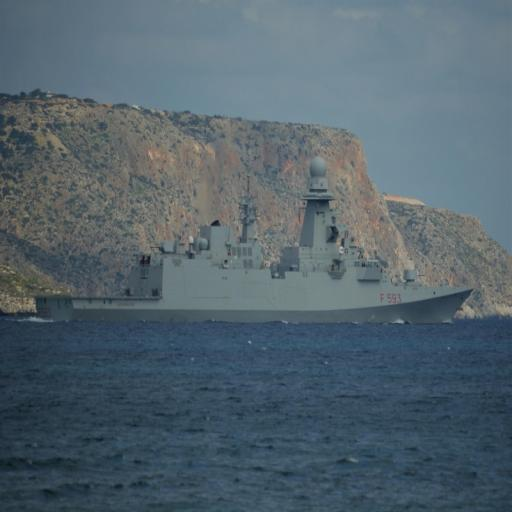Fragata: (36, 148, 475, 329)
